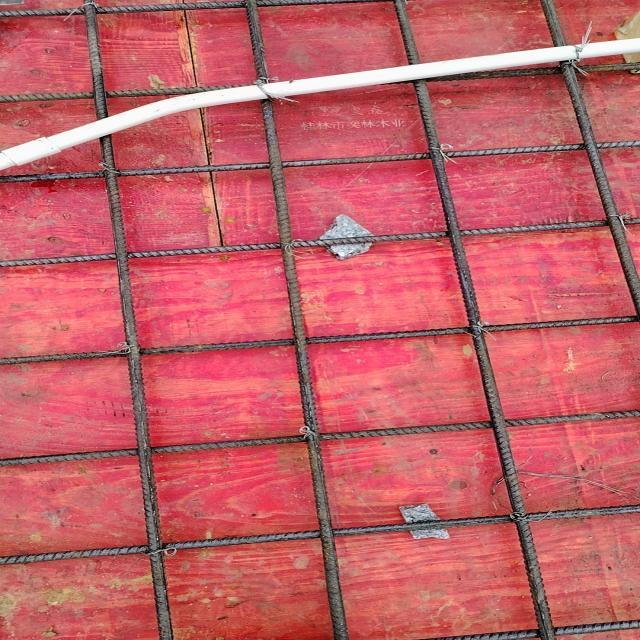ribbed bar: (391, 0, 555, 639), (244, 0, 347, 639), (80, 0, 173, 639), (0, 407, 639, 468), (0, 505, 639, 566), (0, 216, 639, 268), (0, 314, 639, 366), (538, 0, 639, 314), (0, 139, 639, 185), (0, 61, 639, 103), (0, 0, 391, 19), (411, 619, 638, 639)
